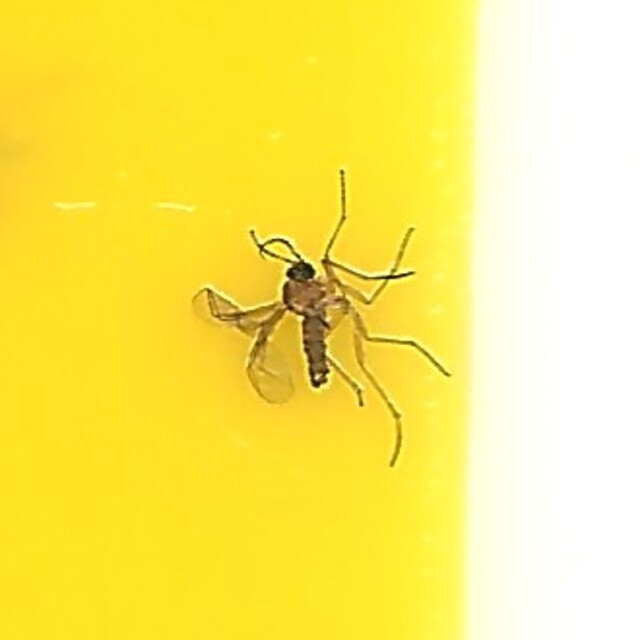Nematocera: (194, 182, 446, 458)
